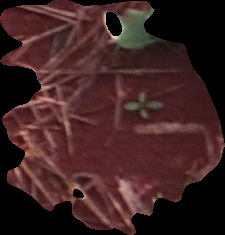soil: (1, 1, 224, 234)
